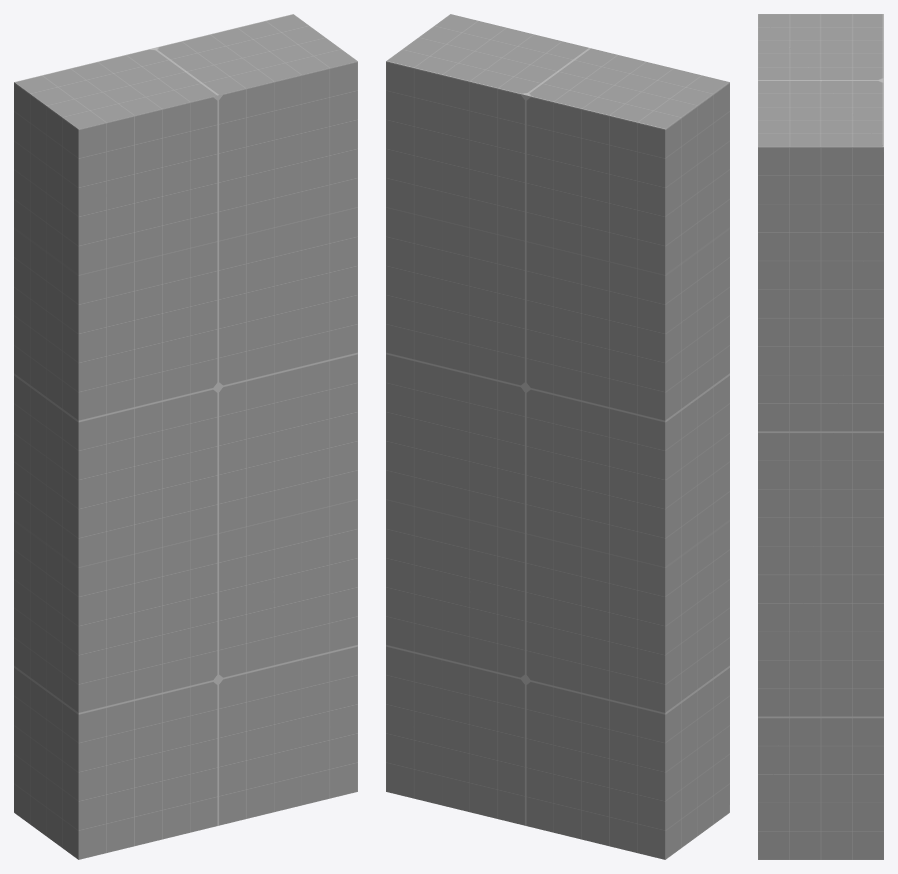
The model's file is Wall_1x1_Thick.001.fbx.
The picture shows the model from 3 angles, left to right: view 1: azimuth 30°, elevation 25°; view 2: azimuth 150°, elevation 25°; view 3: azimuth 270°, elevation 25°; orthographic projection. The views are drawn at different scales.
Parts seen in each view (by area): view 1: Wall_1x1_Thick.001; view 2: Wall_1x1_Thick.001; view 3: Wall_1x1_Thick.001.
Boxes of the visible parts, x1,y1,x2,y2 form: Wall_1x1_Thick.001: [14, 14, 357, 859]; Wall_1x1_Thick.001: [386, 14, 729, 859]; Wall_1x1_Thick.001: [758, 14, 883, 859].
Size of the model in its own units: 100 by 250 by 40.
